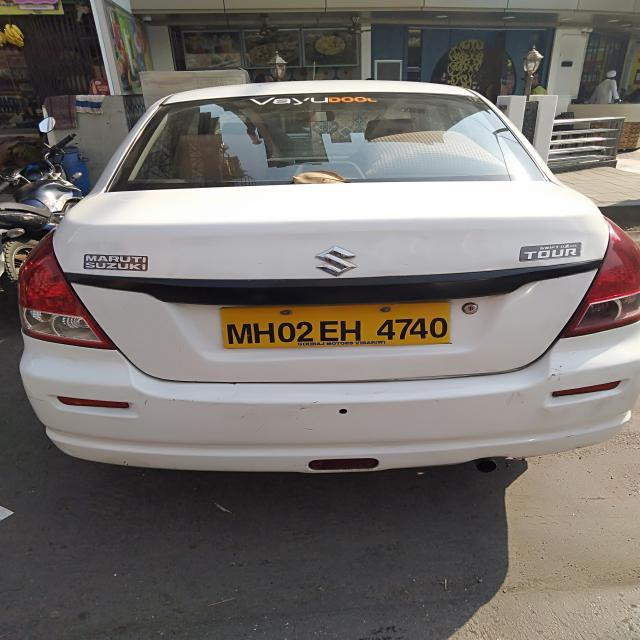Number-Plate: (224, 305, 456, 351)
